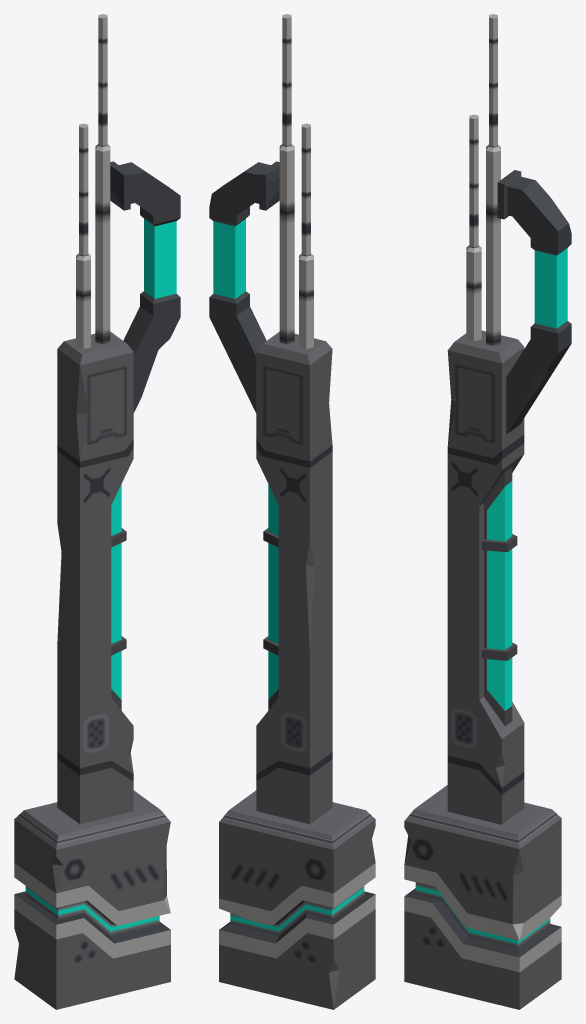
Rendered from SM_Prop_Street_Pole_01.fbx.
3 renders of one model, left to right at view 1: azimuth 30°, elevation 25°; view 2: azimuth 150°, elevation 25°; view 3: azimuth 330°, elevation 25°, orthographic.
Parts seen in each view (by area): view 1: SM_Prop_Street_Pole_01; view 2: SM_Prop_Street_Pole_01; view 3: SM_Prop_Street_Pole_01.
Part boxes in pixels (x1=…): SM_Prop_Street_Pole_01: x1=14, y1=14, x2=180, y2=1009; SM_Prop_Street_Pole_01: x1=209, y1=14, x2=375, y2=1009; SM_Prop_Street_Pole_01: x1=404, y1=14, x2=571, y2=1009.
Bounding box in the file's own units: 130 × 861 × 68.03.
